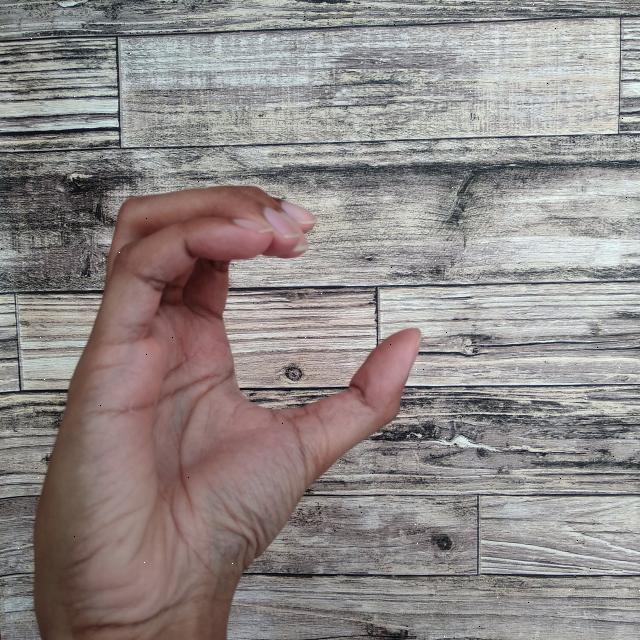C: (30, 180, 424, 640)
